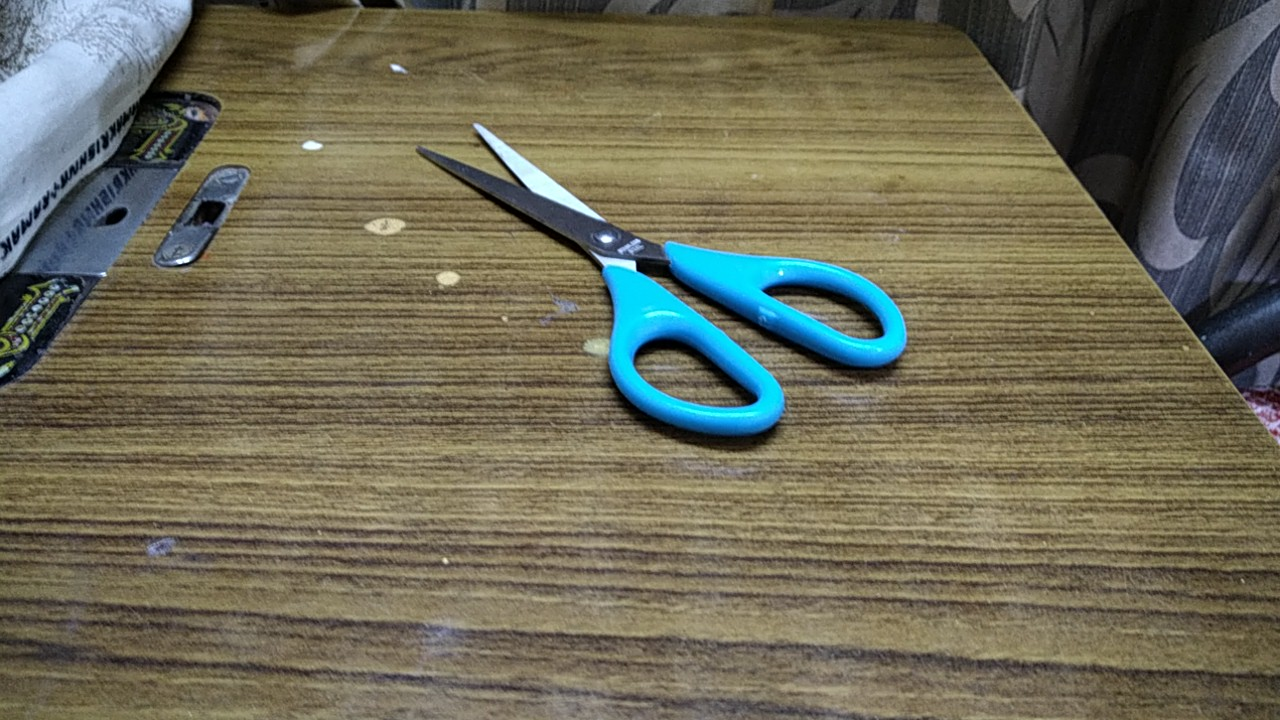scissor: (389, 106, 933, 455)
